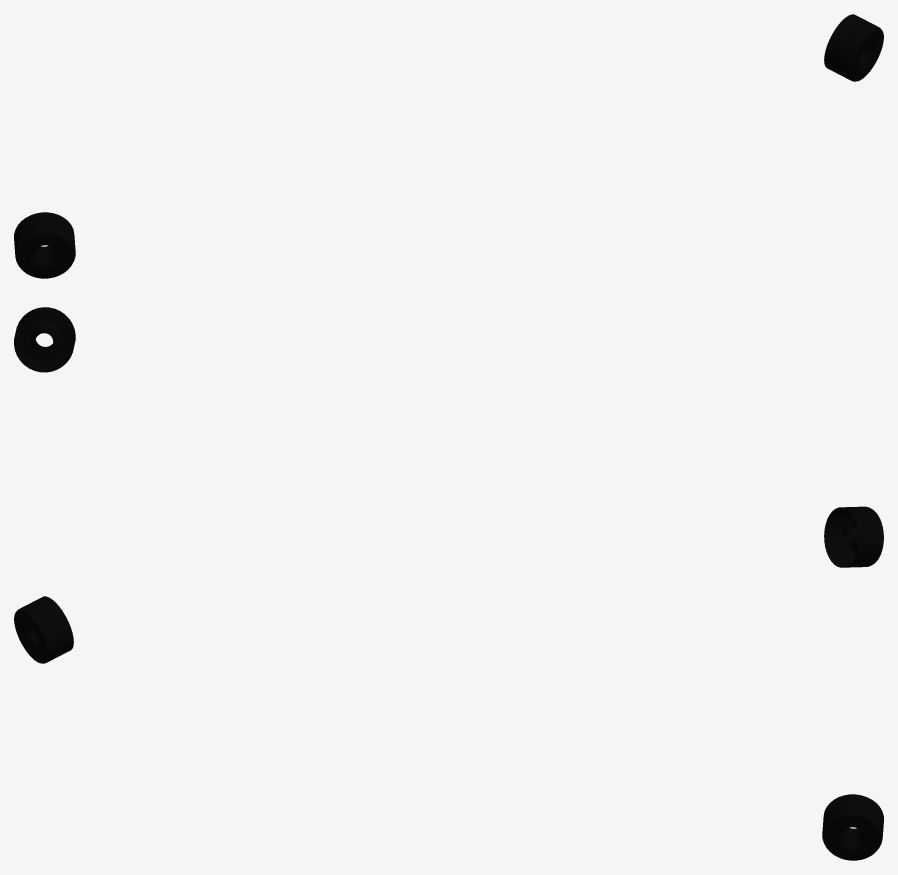
Rendered from earings1.glb.
3 renders of one model, top to bottom at view 1: azimuth 30°, elevation 25°; view 2: azimuth 150°, elevation 25°; view 3: azimuth 330°, elevation 25°, orthographic.
Parts seen in each view (by area): view 1: earrings.001; view 2: earrings.001; view 3: earrings.001.
Part boxes in pixels (bbox=[...]): earrings.001: bbox=[14, 14, 883, 278]; earrings.001: bbox=[14, 307, 883, 567]; earrings.001: bbox=[14, 596, 883, 860].
Bounding box in the file's own units: 1.4 × 0.0915 × 0.0797.
1 material, 1 textured.
